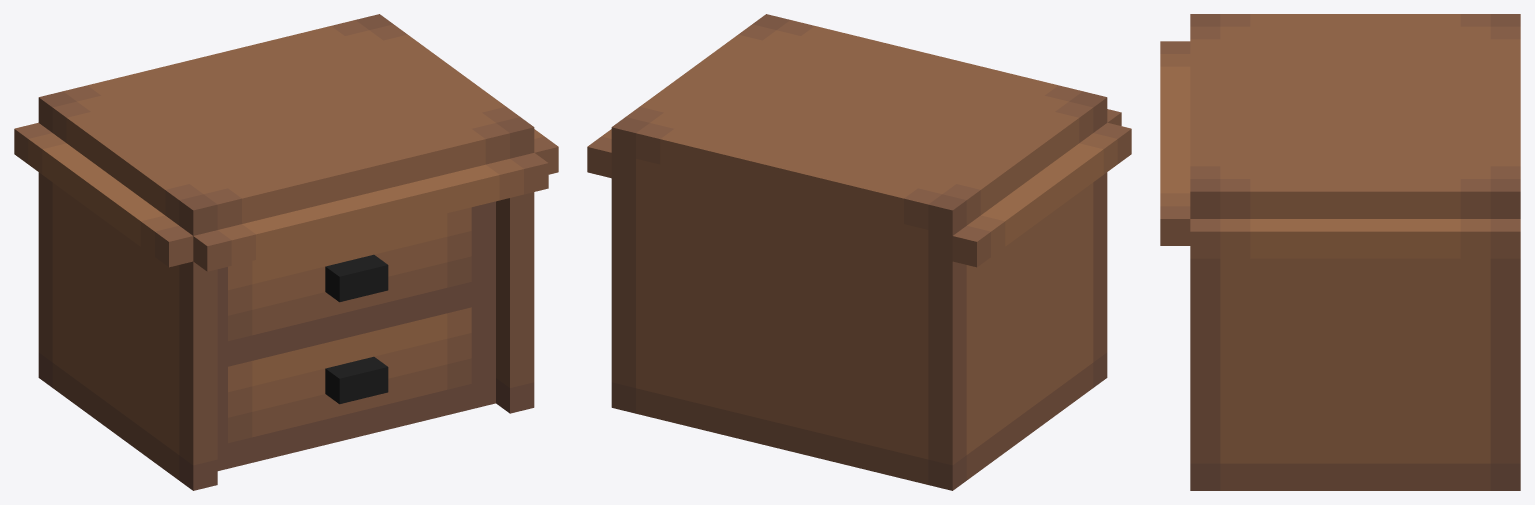
Rendered from Interior_Furniture_Table_SideTable_Big_02.obj.
3 renders of one model, left to right at view 1: azimuth 30°, elevation 25°; view 2: azimuth 150°, elevation 25°; view 3: azimuth 270°, elevation 25°, orthographic. The views are drawn at different scales.
Size of the model in its own units: 1.6 by 1.1 by 1.2.
1 material, 1 textured.
